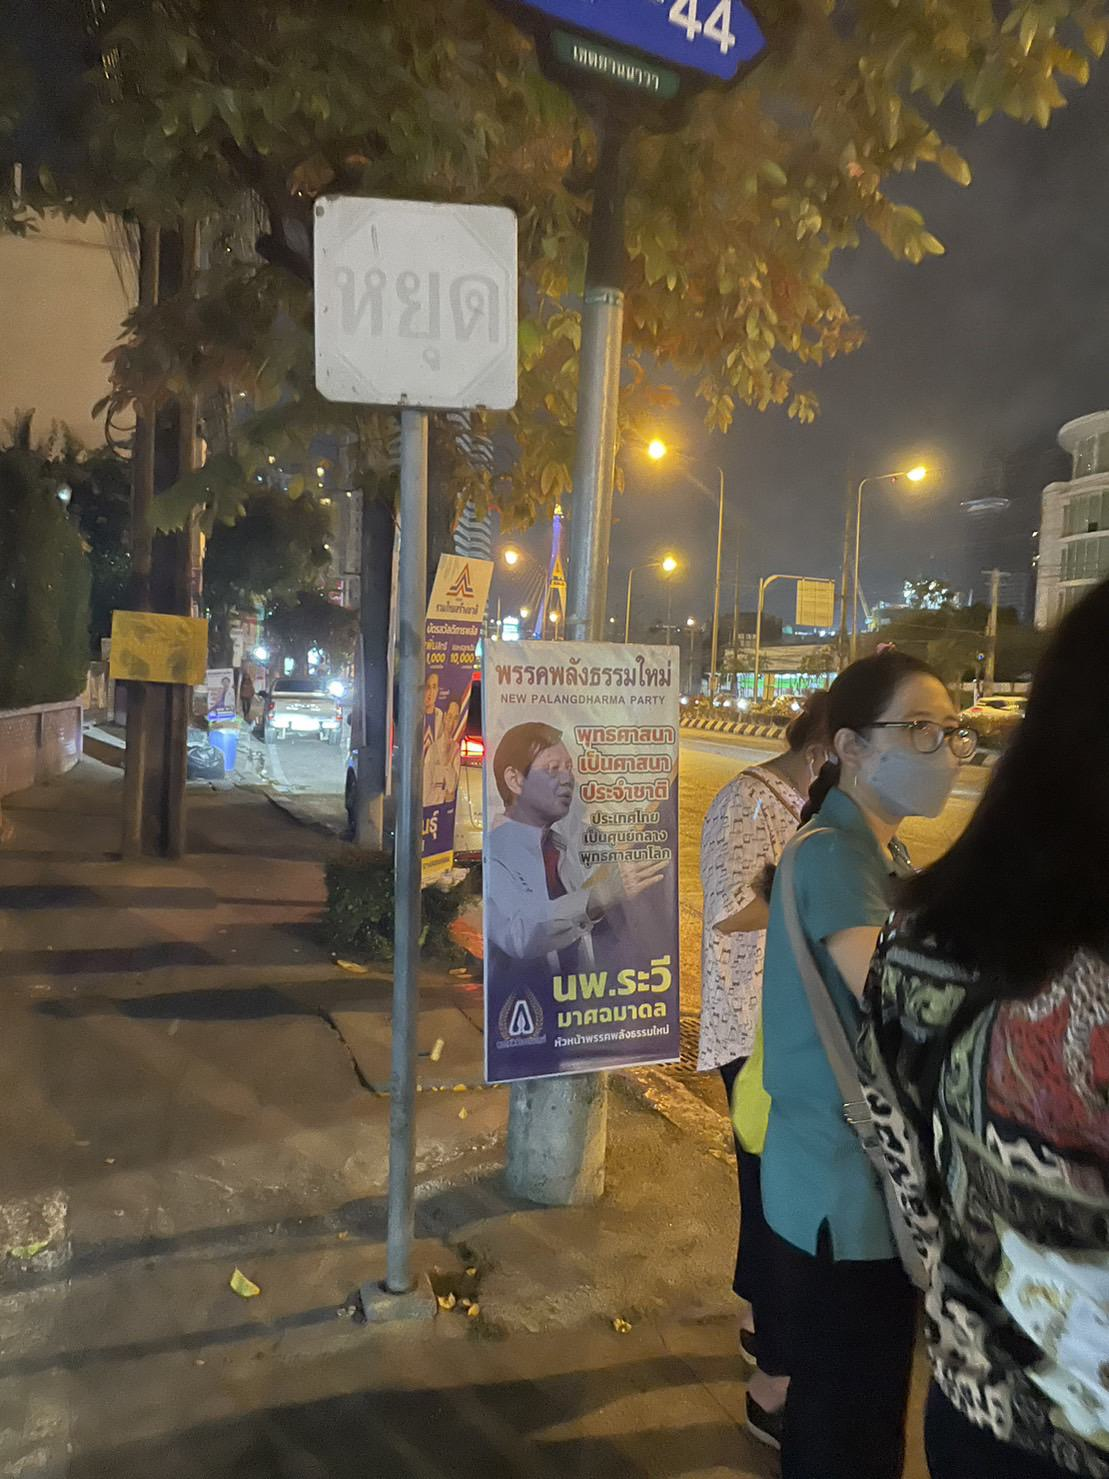Banner: (469, 629, 690, 1081)
